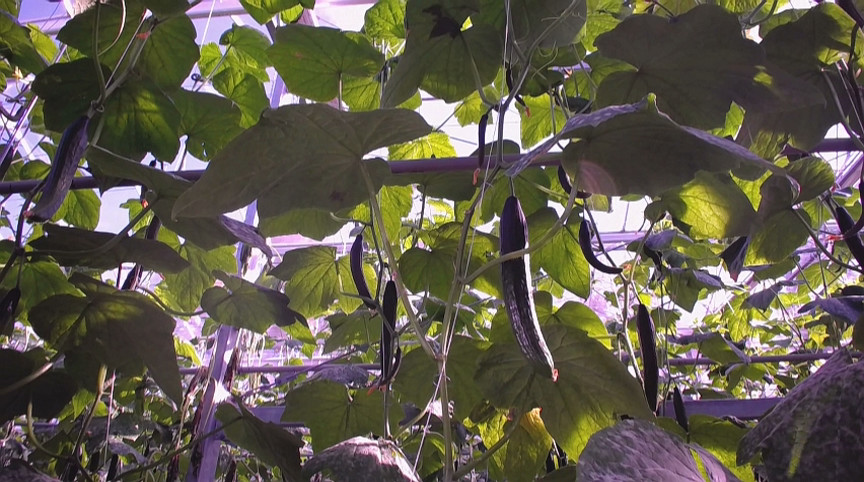cucumber: (499, 196, 557, 381), (27, 115, 89, 223), (635, 306, 659, 413), (578, 221, 624, 276), (348, 236, 378, 311), (380, 281, 399, 378)
